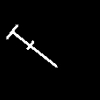double_crochet: (7, 25, 56, 66)
